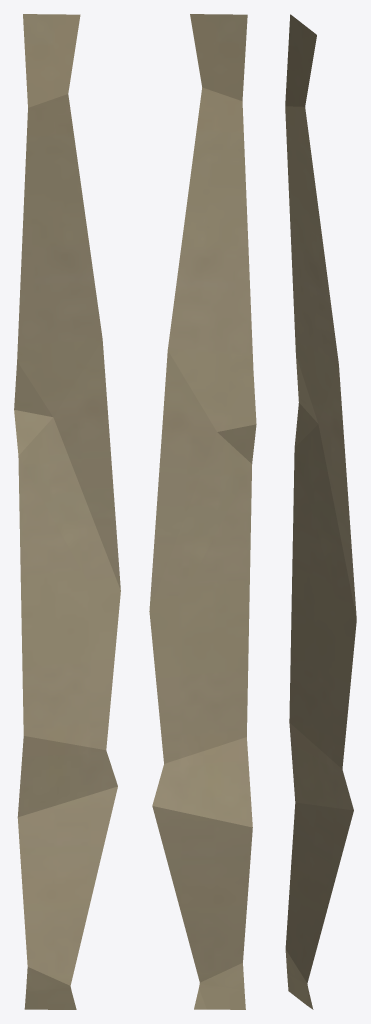
The picture shows the model from 3 angles, left to right: view 1: azimuth 30°, elevation 25°; view 2: azimuth 210°, elevation 25°; view 3: azimuth 330°, elevation 25°; orthographic projection. The views are drawn at different scales.
Bounding box in the file's own units: 0.0731 × 0.8373 × 0.0365.
Materials: 1 (1 with a texture image).
